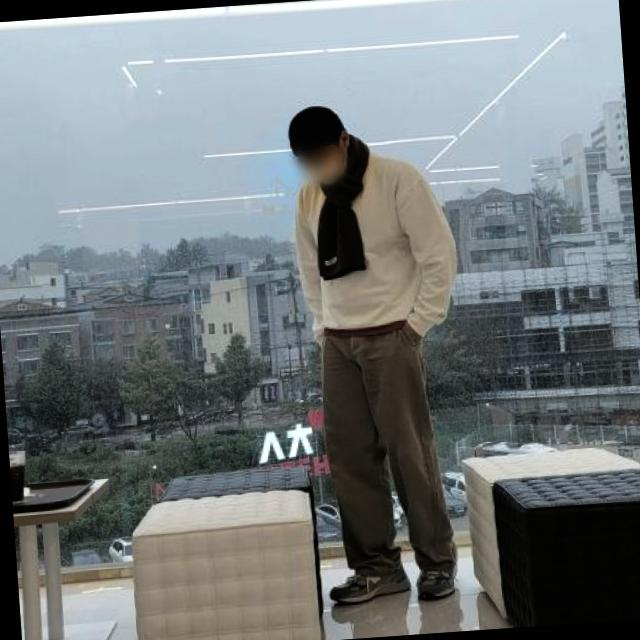cottonpants: (320, 317, 458, 592)
mtm: (287, 148, 458, 348)
